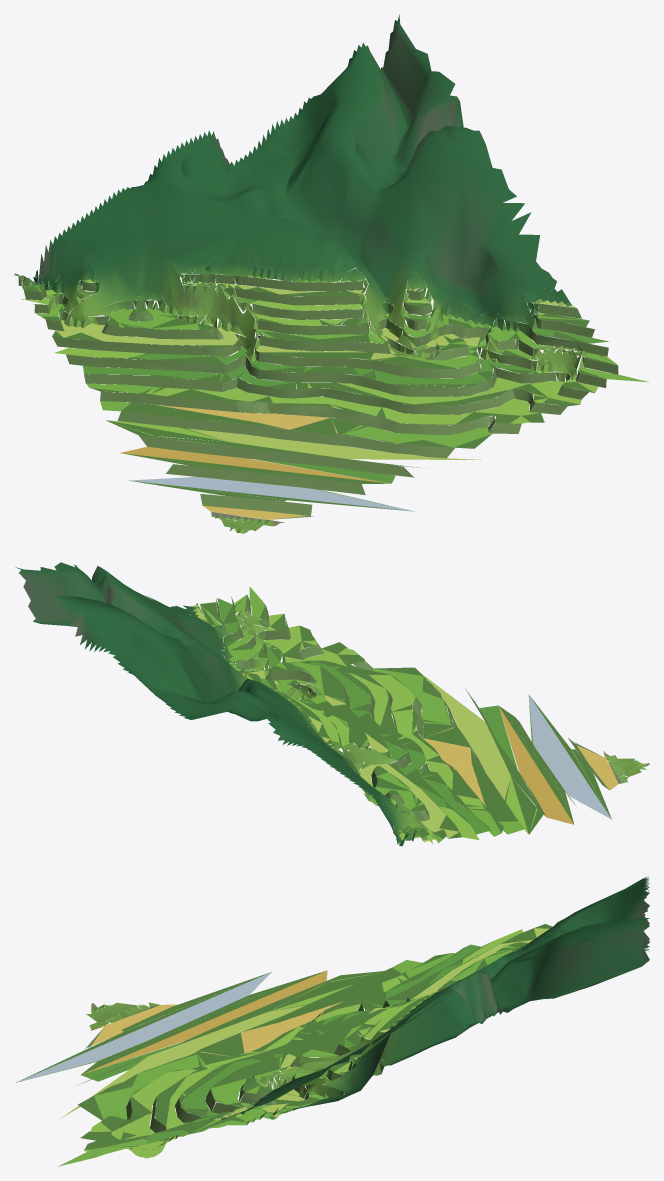
Rendered from payo_land_xm3_y5_lod1.glb.
3 renders of one model, top to bottom at view 1: azimuth 30°, elevation 25°; view 2: azimuth 150°, elevation 25°; view 3: azimuth 270°, elevation 25°, orthographic. The views are drawn at different scales.
Parts seen in each view (by area): view 1: payo_land_xm3_y5; view 2: payo_land_xm3_y5; view 3: payo_land_xm3_y5.
Part boxes in pixels (box(x1,y1,x2,y2)): payo_land_xm3_y5: box(14, 14, 648, 533); payo_land_xm3_y5: box(15, 562, 649, 846); payo_land_xm3_y5: box(15, 877, 649, 1166).
Size of the model in its own units: 288 by 166 by 294.
